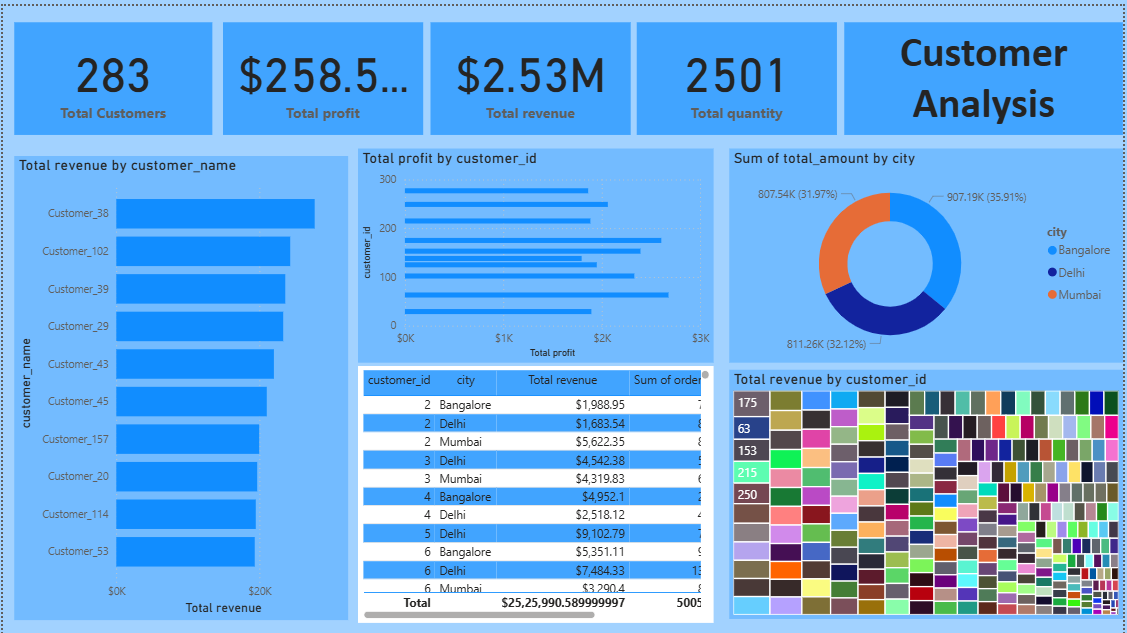

The page's visual inventory and layout, read from the dashboard file:
{"tool":"powerbi","page":{"name":"Page 4","canvas":[1280,720],"ordinal":3},"visuals":[{"type":"card","fields":{"Values":["Factsales.Total Customers"]},"box":[12.5,18.8,226.2,128.8],"z":0},{"type":"card","fields":{"Values":["Factsales.Total revenue"]},"box":[488.8,18.8,228.8,128.8],"z":1000},{"type":"card","fields":{"Values":["Factsales.Total profit"]},"box":[251.2,18.8,228.8,128.8],"z":2000},{"type":"textbox","box":[961.2,18.8,318.8,128.8],"z":3000},{"type":"barChart","fields":{"Y":["Factsales.Total revenue"],"Category":["Dim customer.customer_name"]},"box":[12.5,171.2,381.2,530],"z":4000},{"type":"card","fields":{"Values":["Factsales.Total quantity"]},"box":[725,18.8,228.8,128.8],"z":5000},{"type":"clusteredBarChart","fields":{"Category":["Factsales.customer_id"],"Y":["Factsales.Total profit"]},"box":[406.2,162.5,406.2,245],"z":6000},{"type":"donutChart","fields":{"Y":["Sum(Factsales.total_amount)"],"Category":["Factsales.city"]},"box":[830,162.5,450,245],"z":7000},{"type":"treemap","fields":{"Group":["Dim customer.customer_id"],"Values":["Factsales.Total revenue"]},"box":[830,416.2,450,285],"z":8000},{"type":"tableEx","fields":{"Values":["Factsales.customer_id","Factsales.city","Factsales.Total revenue","Sum(Factsales.order_id)","Factsales.Total profit"]},"box":[406.2,411.2,406.2,293.8],"z":9000}]}

Visuals, with their boxes in screenshot pixels (x1, y1, x2, y2), scaled from the page's 1280x720 canvas onto the 1127x633 screenshot:
card - Factsales.Total Customers: select_region(11, 17, 210, 130)
card - Factsales.Total revenue: select_region(430, 17, 632, 130)
card - Factsales.Total profit: select_region(221, 17, 423, 130)
textbox: select_region(846, 17, 1126, 130)
barChart - Factsales.Total revenue x Dim customer.customer_name: select_region(11, 151, 347, 616)
card - Factsales.Total quantity: select_region(638, 17, 840, 130)
clusteredBarChart - Factsales.customer_id x Factsales.Total profit: select_region(358, 143, 715, 358)
donutChart - Sum(Factsales.total_amount) x Factsales.city: select_region(731, 143, 1126, 358)
treemap - Dim customer.customer_id x Factsales.Total revenue: select_region(731, 366, 1126, 616)
tableEx - Factsales.customer_id x Factsales.city: select_region(358, 362, 715, 620)
